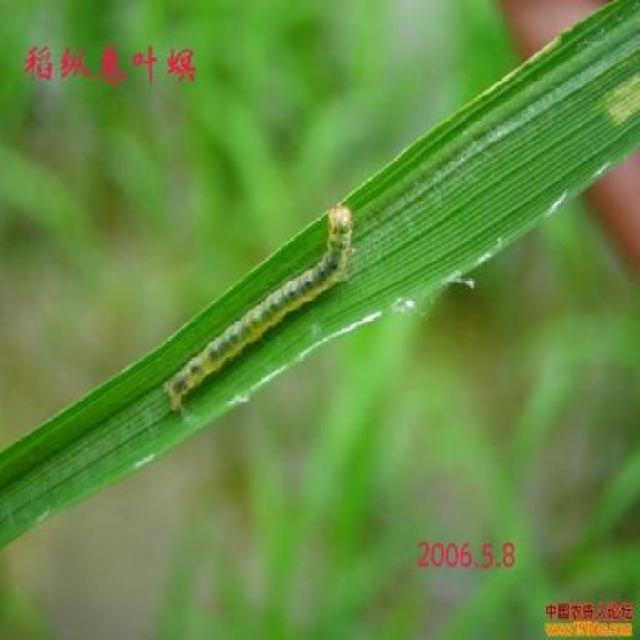leaf-folder: (148, 166, 363, 406)
